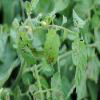Tomato leaf bacterial spot: (71, 37, 88, 97), (45, 28, 61, 72), (15, 35, 34, 69)
